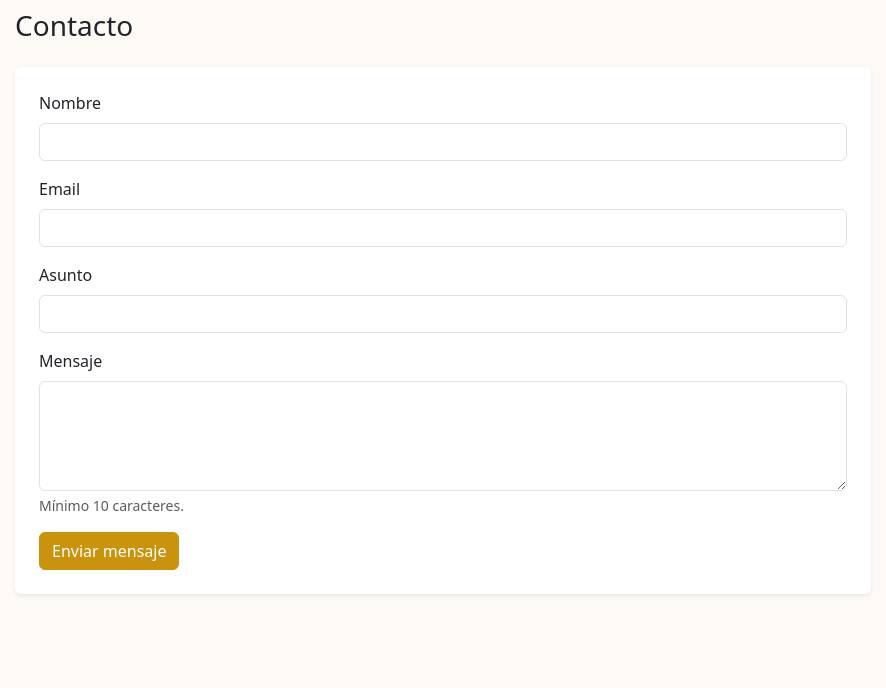
Test: Contacto Page › muestra errores de validación al enviar vacío
The image size is (886, 688).
Step 1. Click the button "Enviar mensaje" → (109, 551), box left=39, top=532, right=180, bottom=570
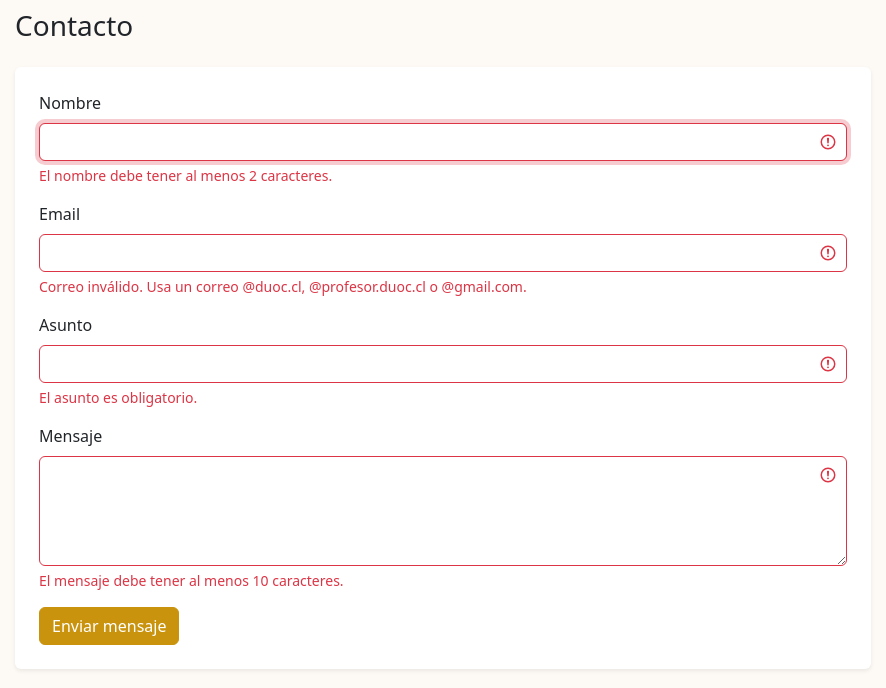
Expected: the text "El nombre debe tener al menos 2 caracteres." is shown, left=39, top=166, right=332, bottom=185
